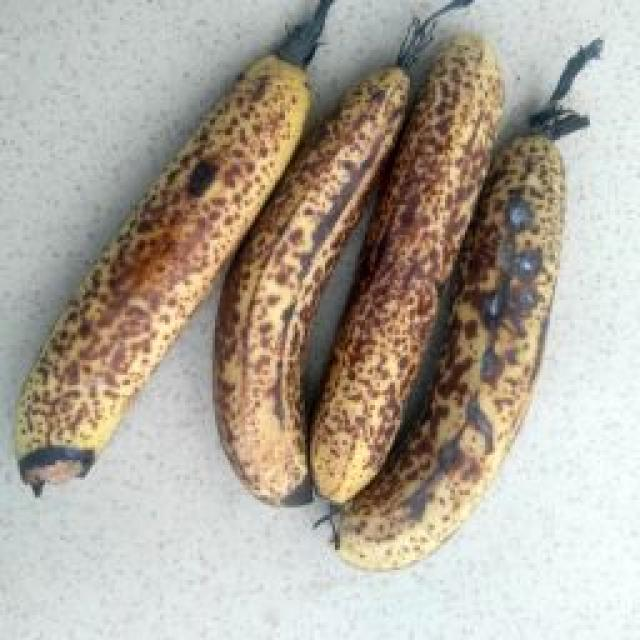banana: (78, 21, 620, 493)
